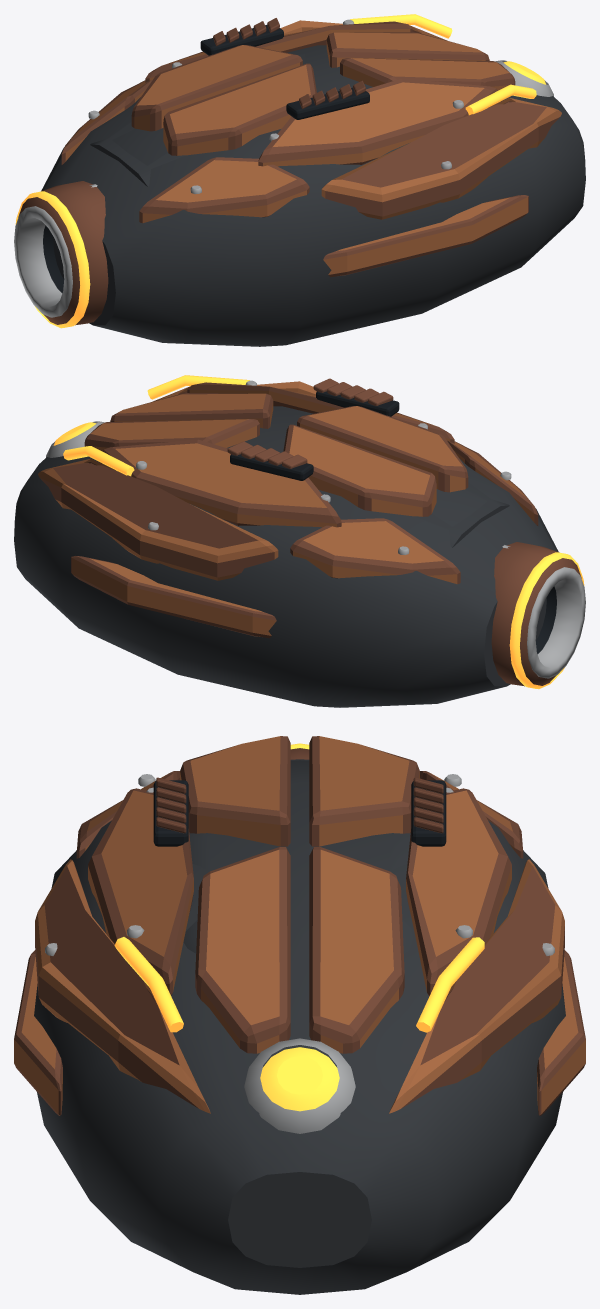
File: Striker.glb
3 views of the same model, one above another, from view 1: azimuth 30°, elevation 25°; view 2: azimuth 150°, elevation 25°; view 3: azimuth 270°, elevation 25° (orthographic). The views are drawn at different scales.
Visible parts, largest first — view 1: Striker_Shell; view 2: Striker_Shell; view 3: Striker_Shell.
Part boxes in pixels (x1,y1,x2,y2): Striker_Shell: [14, 14, 585, 346]; Striker_Shell: [14, 375, 585, 707]; Striker_Shell: [14, 736, 585, 1294].
Bounding box in the file's own units: 2.38 × 1.08 × 1.51.
